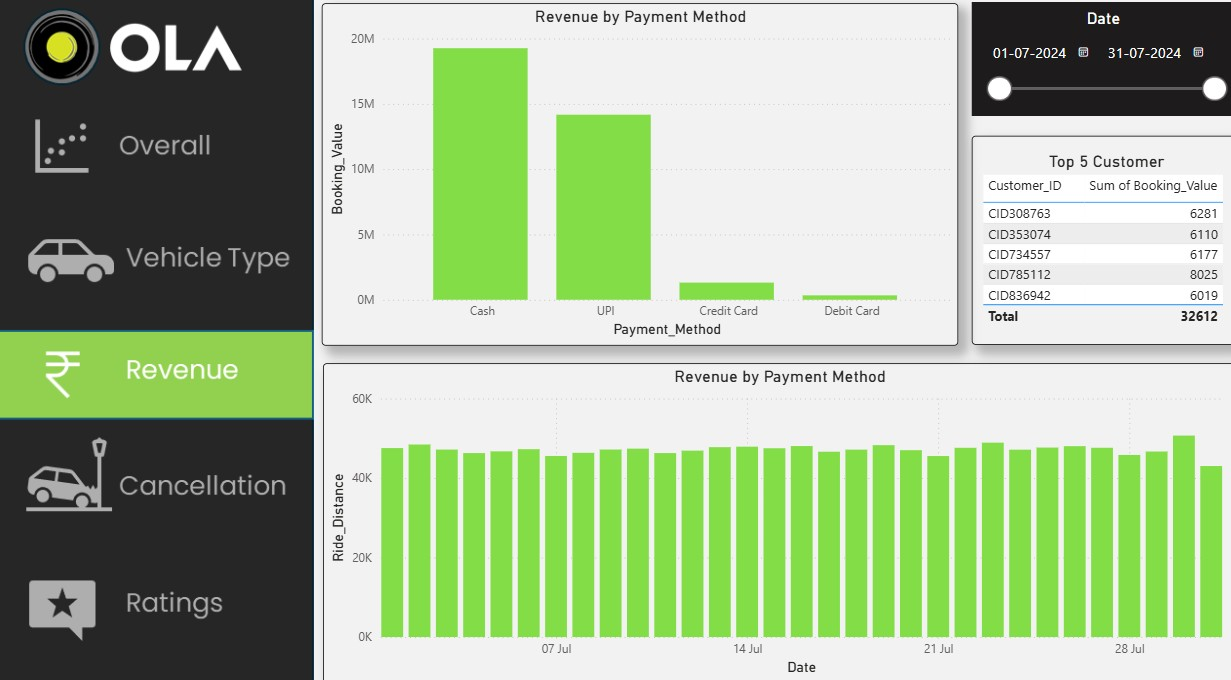

The page's visual inventory and layout, read from the dashboard file:
{"tool":"powerbi","page":{"name":"Revenue","canvas":[1280,720],"ordinal":2},"visuals":[{"type":"actionButton","box":[0,442.9,325.2,95.7],"z":0},{"type":"columnChart","title":"Revenue by Payment Method","fields":{"Y":["Sum(ola data set.Booking_Value)"],"Category":["ola data set.Payment_Method"]},"box":[332.5,6.1,652.8,350.9],"z":1000},{"type":"columnChart","title":"Revenue by Payment Method","fields":{"Y":["Sum(ola data set.Ride_Distance)"],"Category":["ola data set.Date"]},"box":[333.7,375.5,936.2,327.6],"z":2000},{"type":"slicer","title":"Date","fields":{"Values":["ola data set.Date"]},"box":[999,5.5,270.3,116.6],"z":3000},{"type":"tableEx","title":"Top 5 Customer","fields":{"Values":["ola data set.Customer_ID","Sum(ola data set.Booking_Value)"]},"box":[999,142.7,270.3,214.1],"z":4000}]}

Visuals, with their boxes on the page's 1280x720 design canvas (x1, y1, x2, y2). These are canvas units, not pixel positions in the 1231x680 screenshot, which may show the page scaled, cropped or inside an application window:
actionButton: left=0, top=443, right=325, bottom=539
"Revenue by Payment Method" columnChart: left=332, top=6, right=985, bottom=357
"Revenue by Payment Method" columnChart: left=334, top=376, right=1270, bottom=703
"Date" slicer: left=999, top=6, right=1269, bottom=122
"Top 5 Customer" tableEx: left=999, top=143, right=1269, bottom=357
